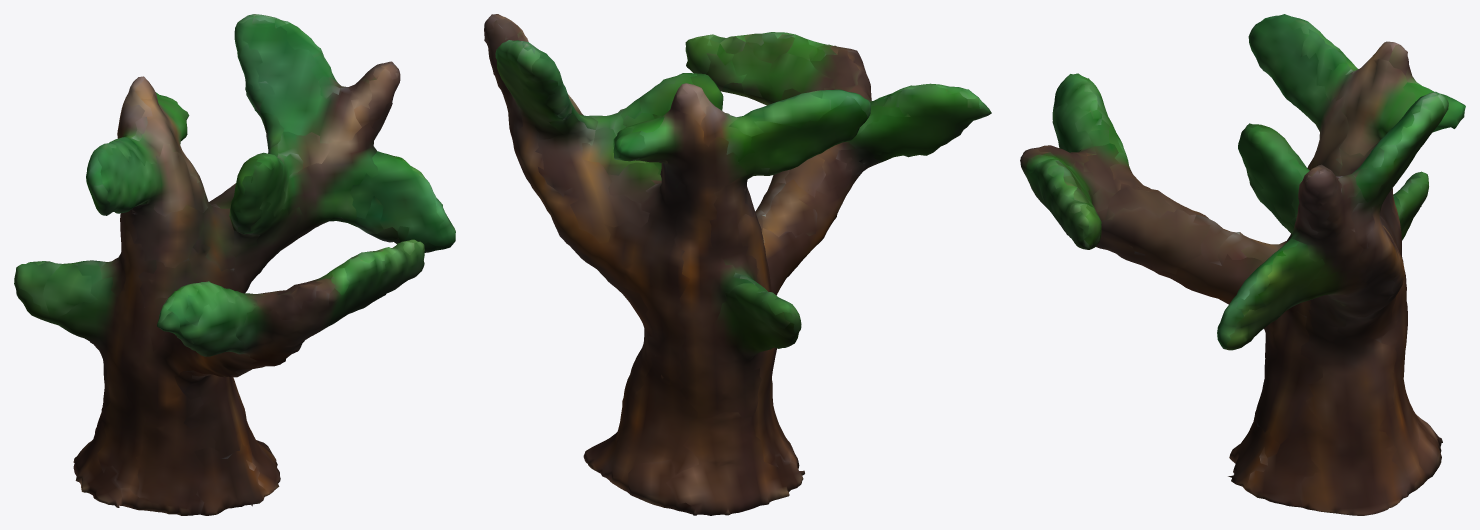
File: baobab-ray.gltf
3 renders of one model, left to right at view 1: azimuth 30°, elevation 25°; view 2: azimuth 150°, elevation 25°; view 3: azimuth 270°, elevation 25°, orthographic. The views are drawn at different scales.
Parts seen in each view (by area): view 1: texturedMesh; view 2: texturedMesh; view 3: texturedMesh.
Boxes of the visible parts, left/top/right/bottom form: texturedMesh: left=14, top=14, right=455, bottom=515; texturedMesh: left=484, top=14, right=991, bottom=515; texturedMesh: left=1020, top=14, right=1465, bottom=515.
Bounding box in the file's own units: 0.8713 × 0.892 × 0.8284.
1 material, 1 textured.
